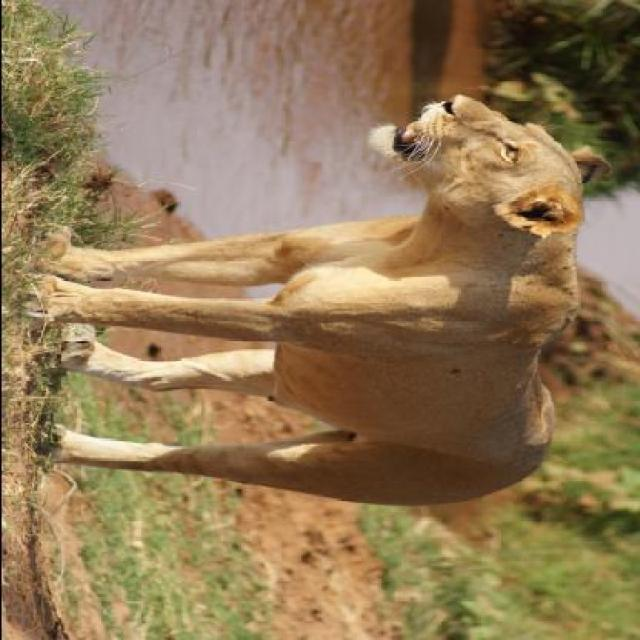Lion: (15, 64, 611, 518)
